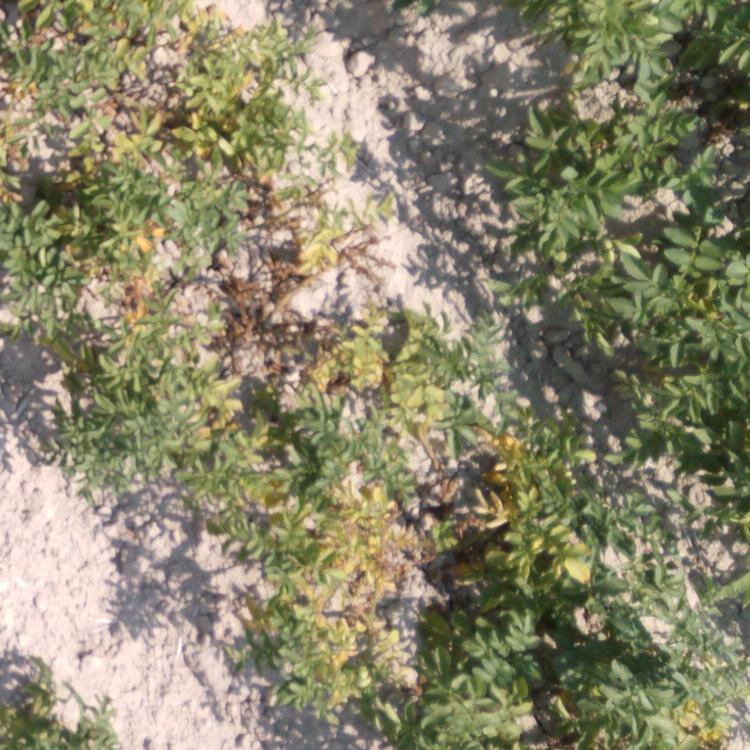healthy: (463, 82, 750, 245), (569, 247, 743, 444), (514, 1, 750, 95), (636, 456, 750, 594), (464, 242, 554, 307)
stressed: (1, 282, 455, 431), (1, 144, 397, 282), (1, 1, 344, 146), (94, 428, 410, 583), (453, 591, 738, 744), (232, 592, 437, 739), (418, 449, 606, 579), (454, 352, 546, 447), (6, 666, 99, 750)
